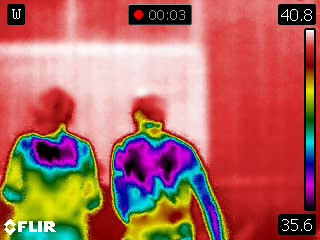human: (110, 91, 230, 240), (1, 85, 102, 240)
